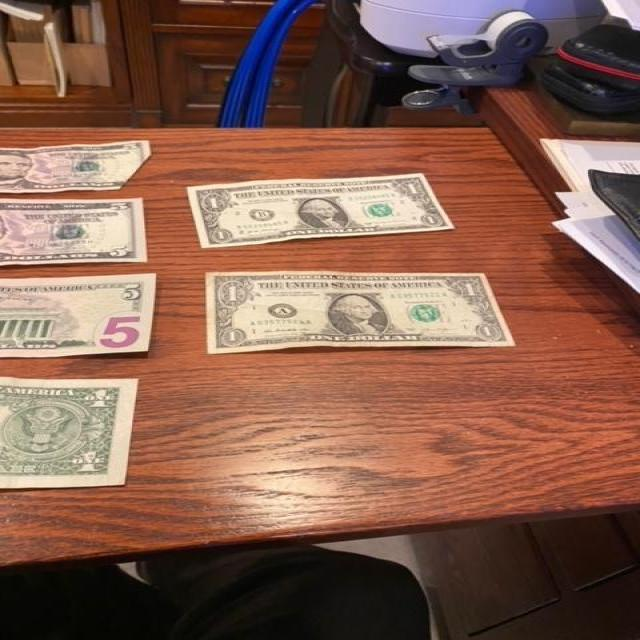1-Back: (0, 372, 143, 493)
1-Front: (196, 264, 523, 359), (183, 168, 461, 251)
5-Back: (0, 269, 161, 362)
5-Front: (0, 194, 161, 267), (0, 133, 160, 194)
